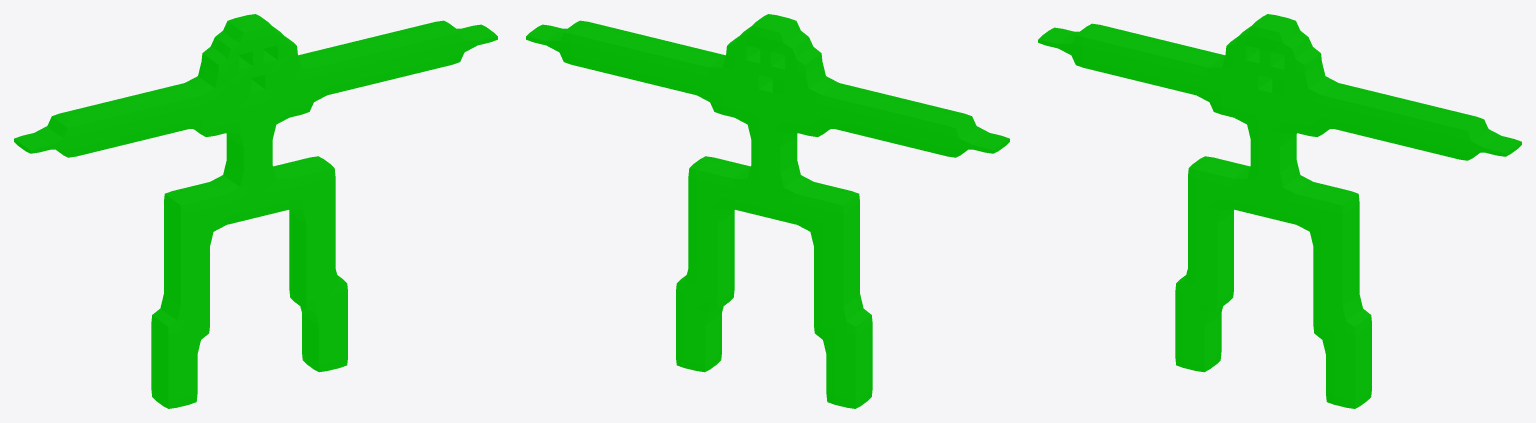
File: standing2.glb
3 views of the same model, side by side, from view 1: azimuth 30°, elevation 25°; view 2: azimuth 150°, elevation 25°; view 3: azimuth 330°, elevation 25° (orthographic).
Size of what is drawn, in the model's own units: 37.33 by 27.5 by 2.5.
